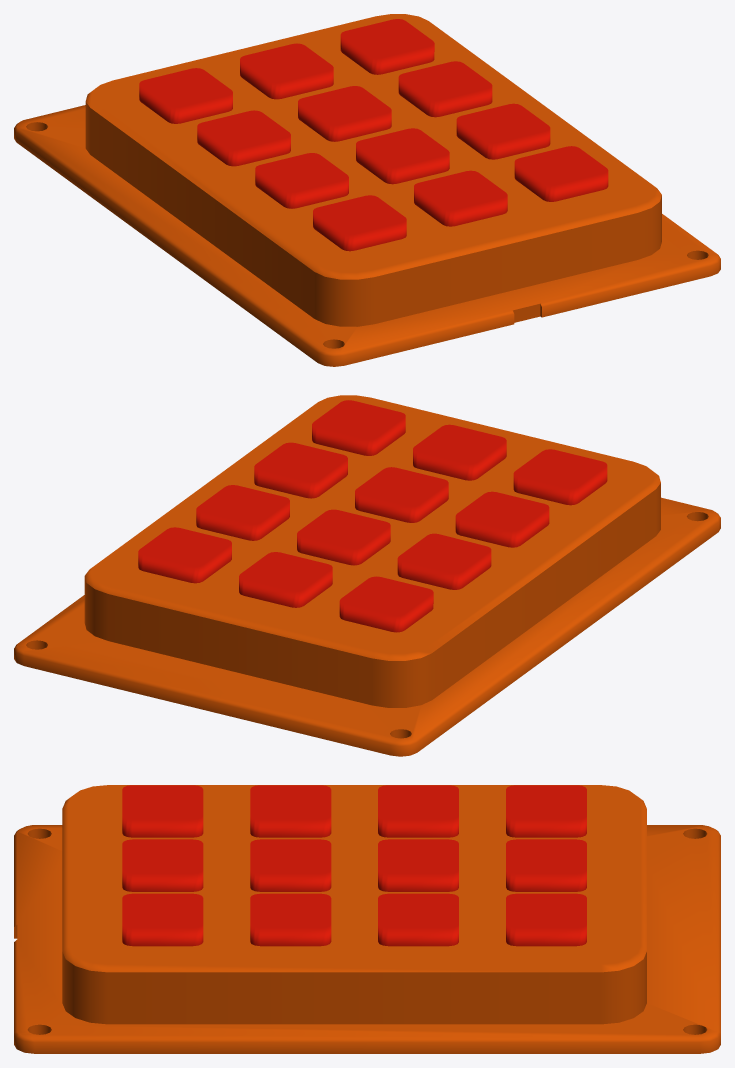
Rendered from Timer.fbx.
The picture shows the model from 3 angles, top to bottom: view 1: azimuth 30°, elevation 25°; view 2: azimuth 150°, elevation 25°; view 3: azimuth 270°, elevation 25°; orthographic projection. The views are drawn at different scales.
Visible parts, largest first — view 1: models/weapons/w_eq_c4.002; view 2: models/weapons/w_eq_c4.002; view 3: models/weapons/w_eq_c4.002.
Part boxes in pixels (left/top/right/bottom): models/weapons/w_eq_c4.002: left=14, top=14, right=720, bottom=366; models/weapons/w_eq_c4.002: left=14, top=395, right=720, bottom=756; models/weapons/w_eq_c4.002: left=14, top=785, right=720, bottom=1053.
Size of the model in its own units: 12.28 by 2.41 by 16.99.
